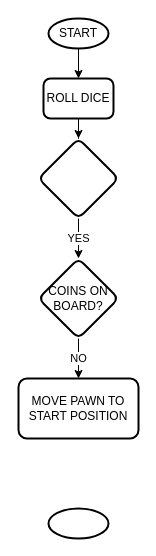
Some shapes in this 156 by 556 pixel diagram are drawn without their labels. The centre of each missing label's shape, as x and y in pixels:
"DICE VALUE = 4 || 8" belongs at [78,178].
"END" belongs at [78,523].
